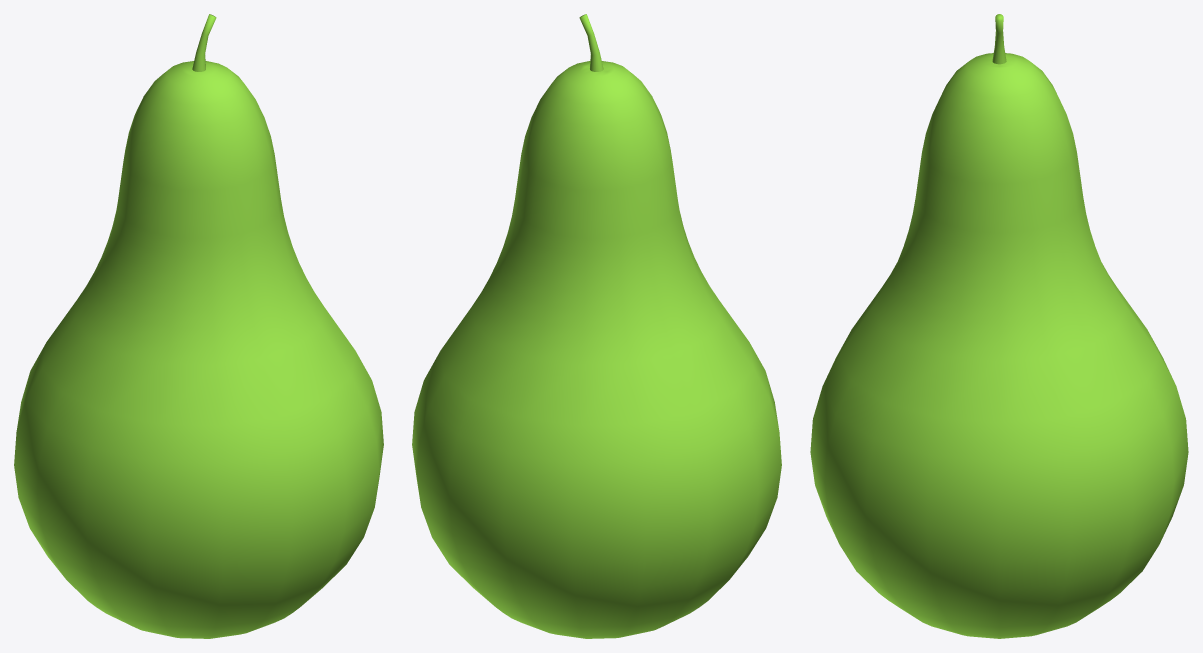
File: Pera.fbx
3 renders of one model, left to right at view 1: azimuth 30°, elevation 25°; view 2: azimuth 150°, elevation 25°; view 3: azimuth 270°, elevation 25°, orthographic.
Visible parts, largest first — view 1: Pera; view 2: Pera; view 3: Pera.
Part boxes in pixels (x1,y1,x2,y2): Pera: (14, 14, 383, 638); Pera: (412, 14, 781, 638); Pera: (810, 14, 1188, 638).
Size of the model in its own units: 601 by 1063 by 601.
